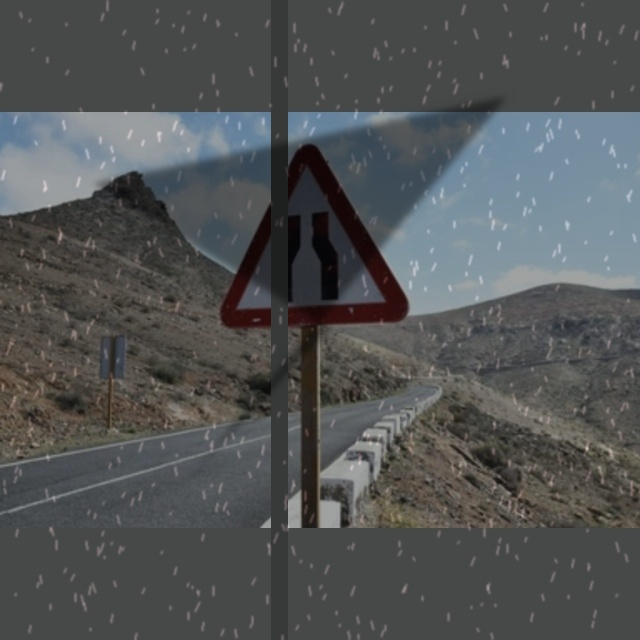Narrow_Road_Ahead: (216, 147, 409, 330)
